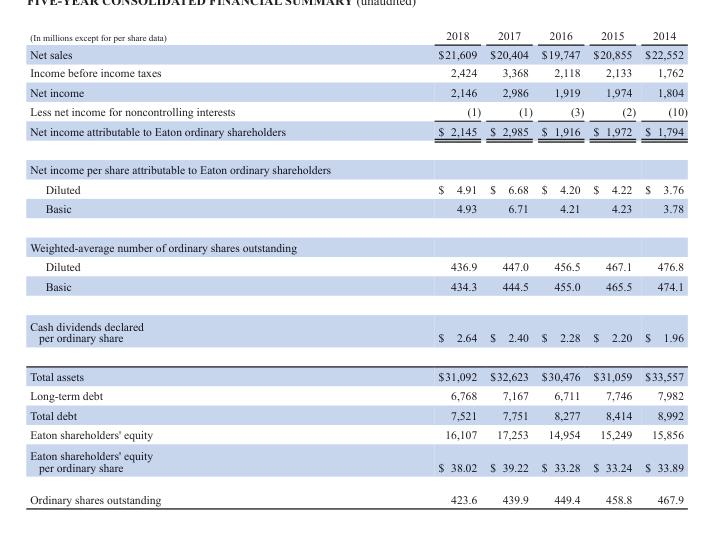table: (29, 28, 686, 505)
table column: (29, 28, 361, 505), (361, 28, 484, 505), (484, 28, 536, 505), (587, 28, 639, 505), (536, 28, 587, 505), (639, 28, 686, 505)
table column header: (29, 28, 686, 44)
table projected row header: (29, 150, 686, 179), (29, 227, 686, 256)
table row: (29, 305, 686, 356), (29, 444, 686, 482), (29, 121, 686, 150), (29, 150, 686, 179), (29, 198, 686, 227), (29, 227, 686, 256), (29, 276, 686, 305), (29, 356, 686, 385), (29, 482, 686, 505), (29, 101, 686, 121), (29, 256, 686, 276), (29, 385, 686, 405), (29, 424, 686, 444), (29, 44, 686, 63), (29, 63, 686, 82), (29, 82, 686, 101), (29, 179, 686, 198), (29, 405, 686, 424), (29, 28, 686, 44)
